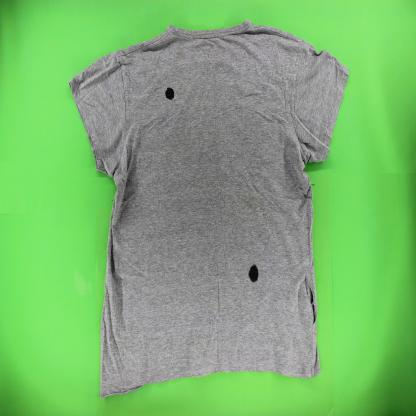stain: (247, 263, 260, 284), (164, 86, 175, 102)
